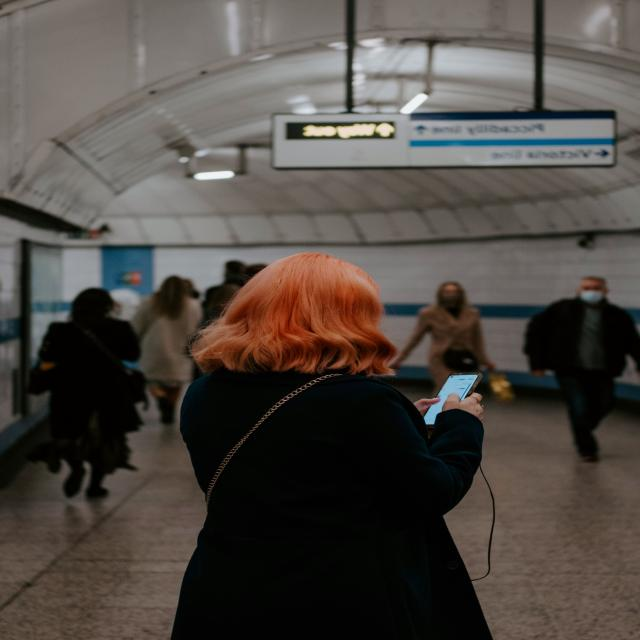adult: (170, 253, 492, 640), (520, 270, 638, 462)
